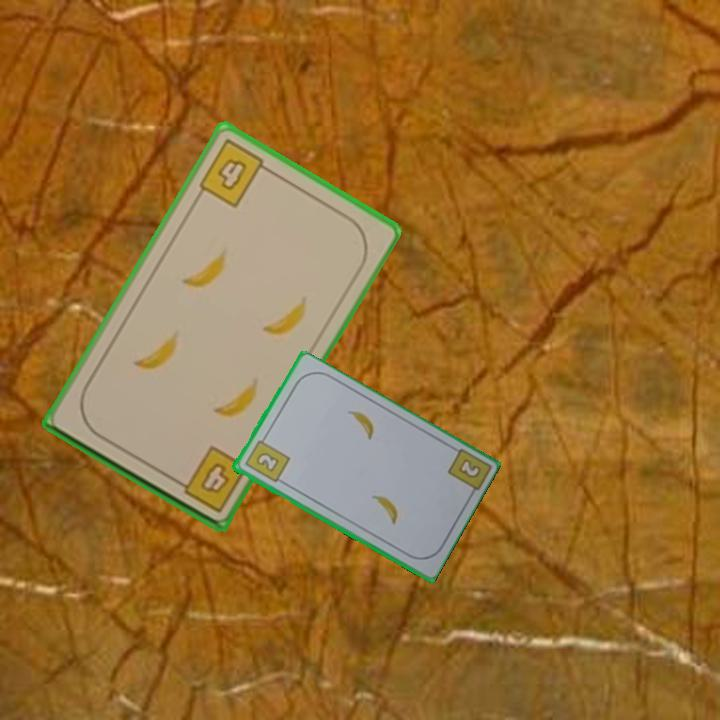2b: (241, 432, 292, 485), (457, 457, 482, 479)
4b: (195, 135, 275, 211), (169, 442, 251, 515)
